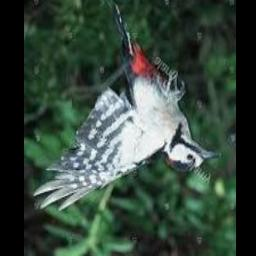Woodpecker: (34, 4, 221, 213)
